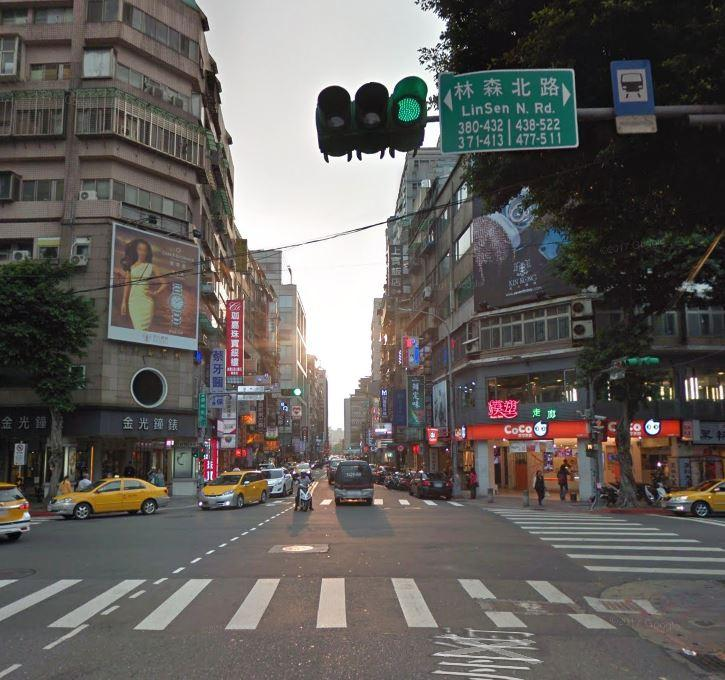car: (46, 473, 173, 526), (659, 473, 725, 523), (202, 465, 269, 514), (335, 457, 376, 508), (404, 469, 452, 501), (259, 461, 295, 501)
green_traffic_light: (311, 73, 429, 164), (280, 385, 301, 398)
motorcycle: (293, 476, 314, 510)
